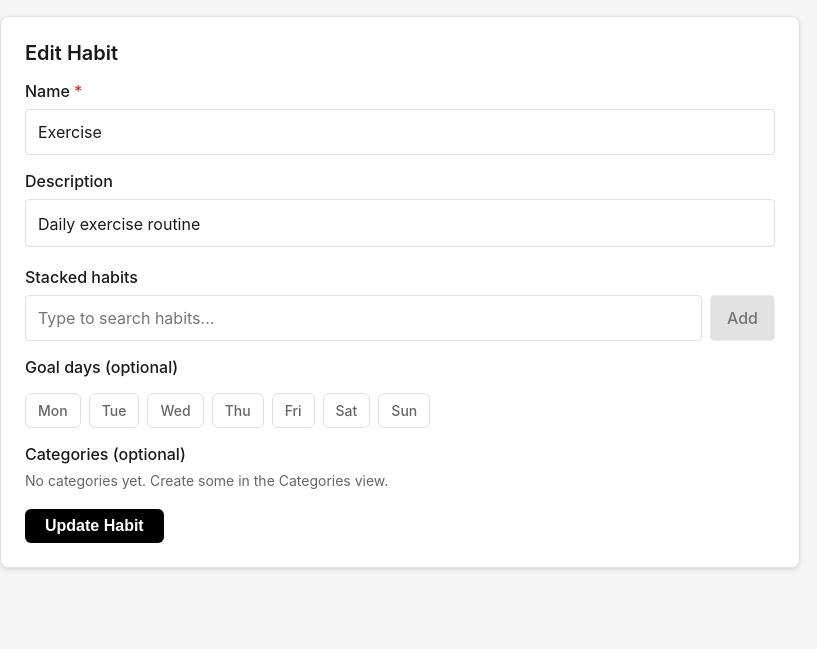
Test case: HabitForm › Edit mode › should show success message after updating habit
Click the button "Update Habit".
click(94, 526)  # box [25,509,164,543]
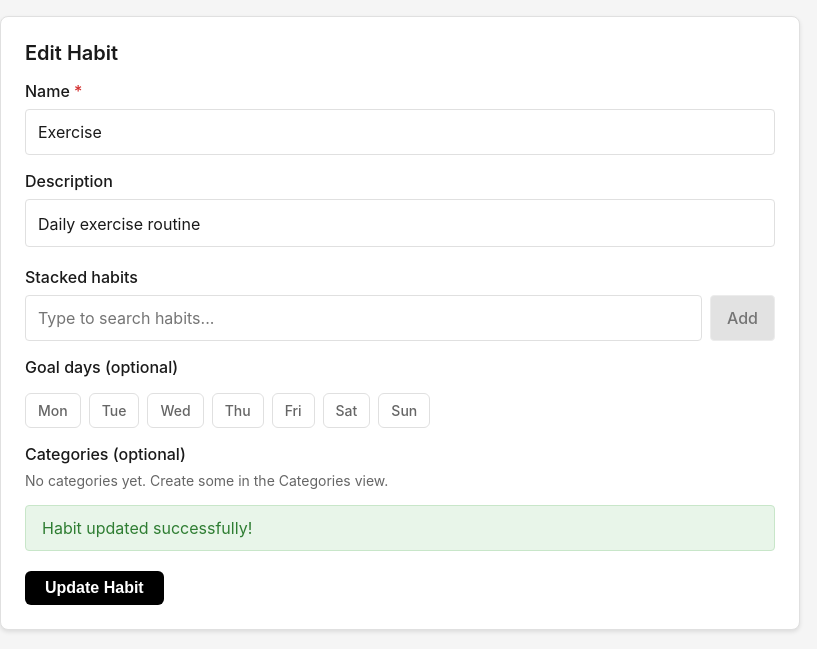
Expected: the text "Habit updated successfully!" is shown, [25,505,775,551]
